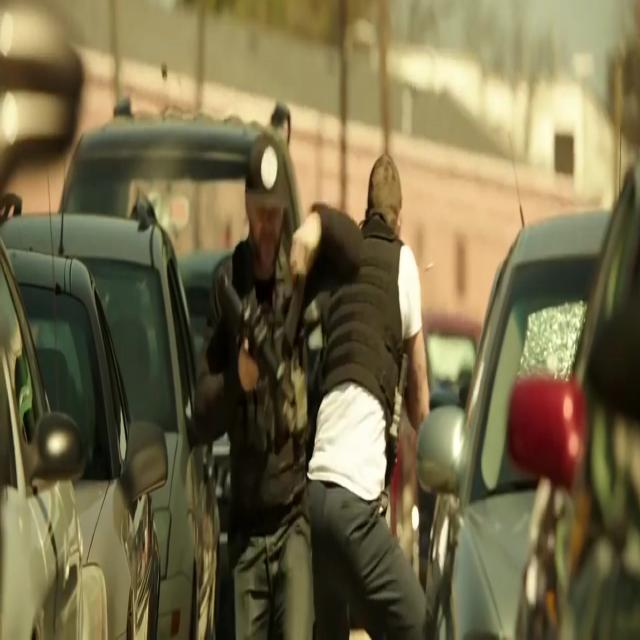Weapon: (223, 281, 310, 446)
